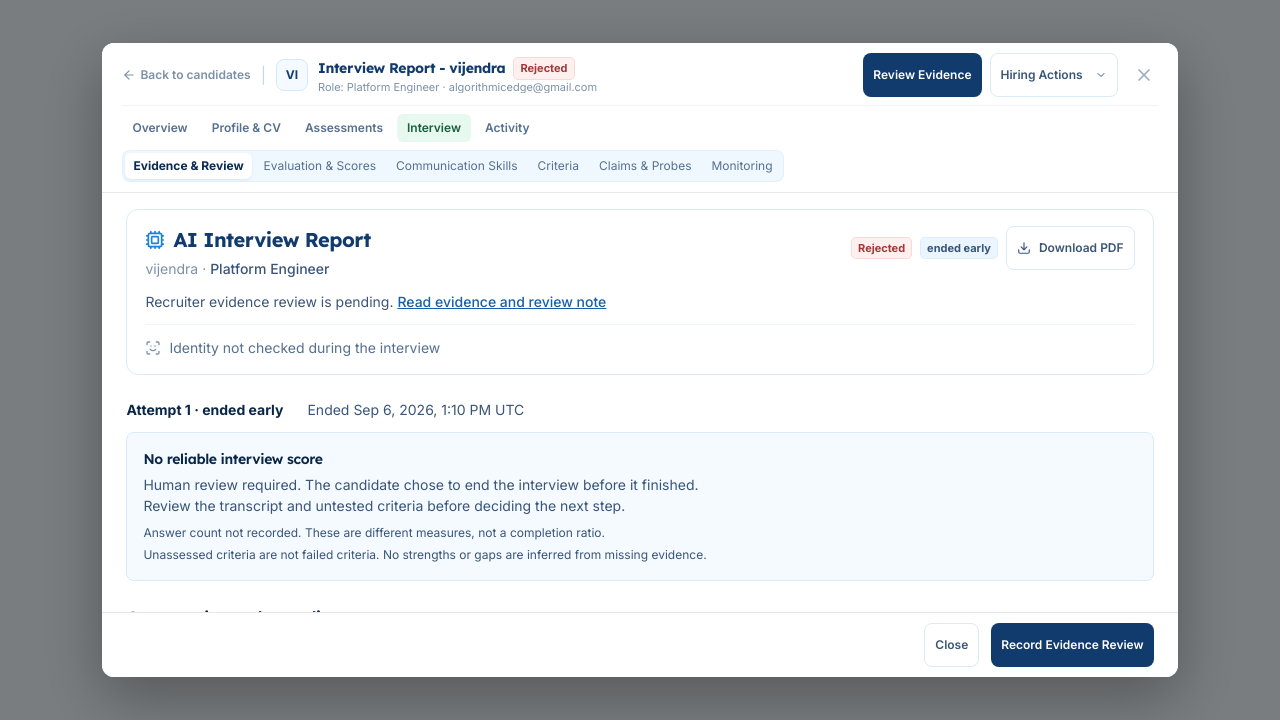
Test: CandidateInterviewModal Component › allows switching between candidate profile tabs and interview sub-tabs
The image size is (1280, 720).
Check: the button "Evidence & Review" is shown, box [125,153,252,179]
Check: the button "Claims & Probes" is shown, box [591,153,700,179]
# Click Criteria subtab
Click the button "Criteria" at (558, 166), box [530,153,587,179]
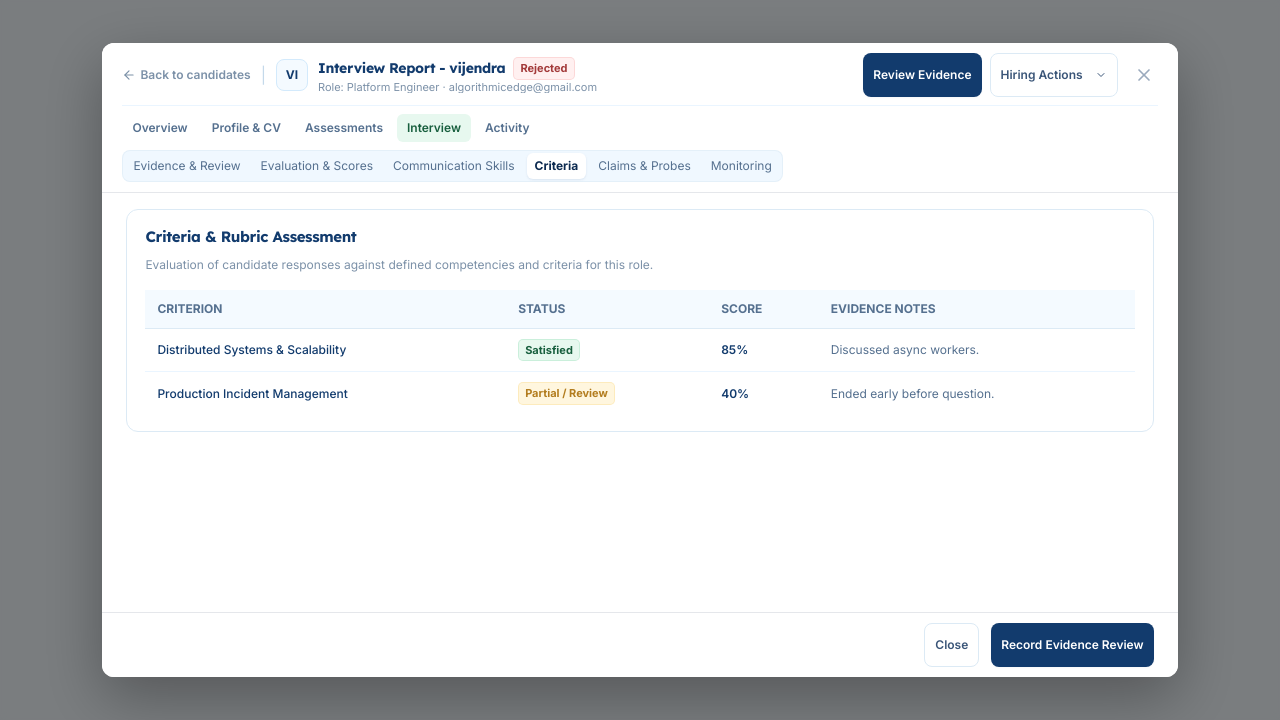
Check: the element with test id "interview-criteria-view" is shown, box [126,209,1154,432]
Check: the text "Distributed Systems & Scalability" is shown, box [145,328,506,372]
# Click Claims & Probes subtab
Click the button "Claims & Probes" at (645, 166), box [590,153,699,179]
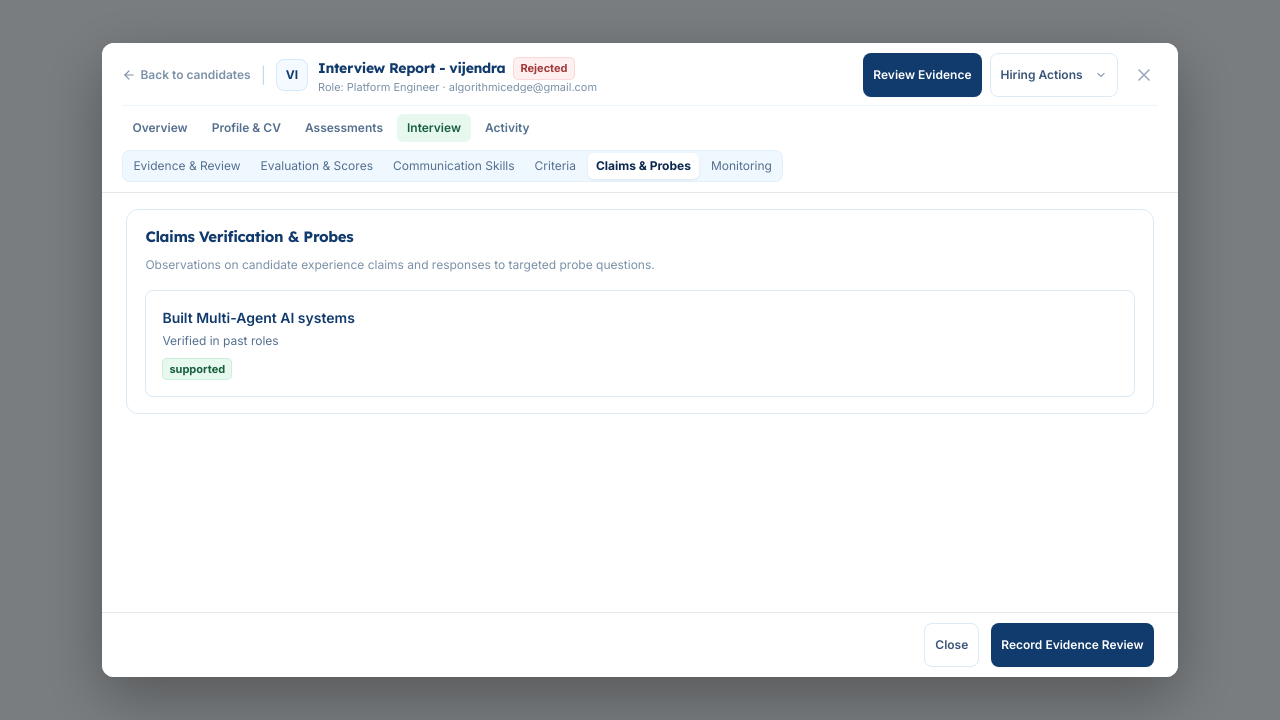
Check: the element with test id "interview-claims-view" is shown, box [126,209,1154,414]
Check: the text "Built Multi-Agent AI systems" is shown, box [162,309,355,326]
# Click Monitoring subtab
Click the button "Monitoring" at (741, 166), box [703,153,780,179]
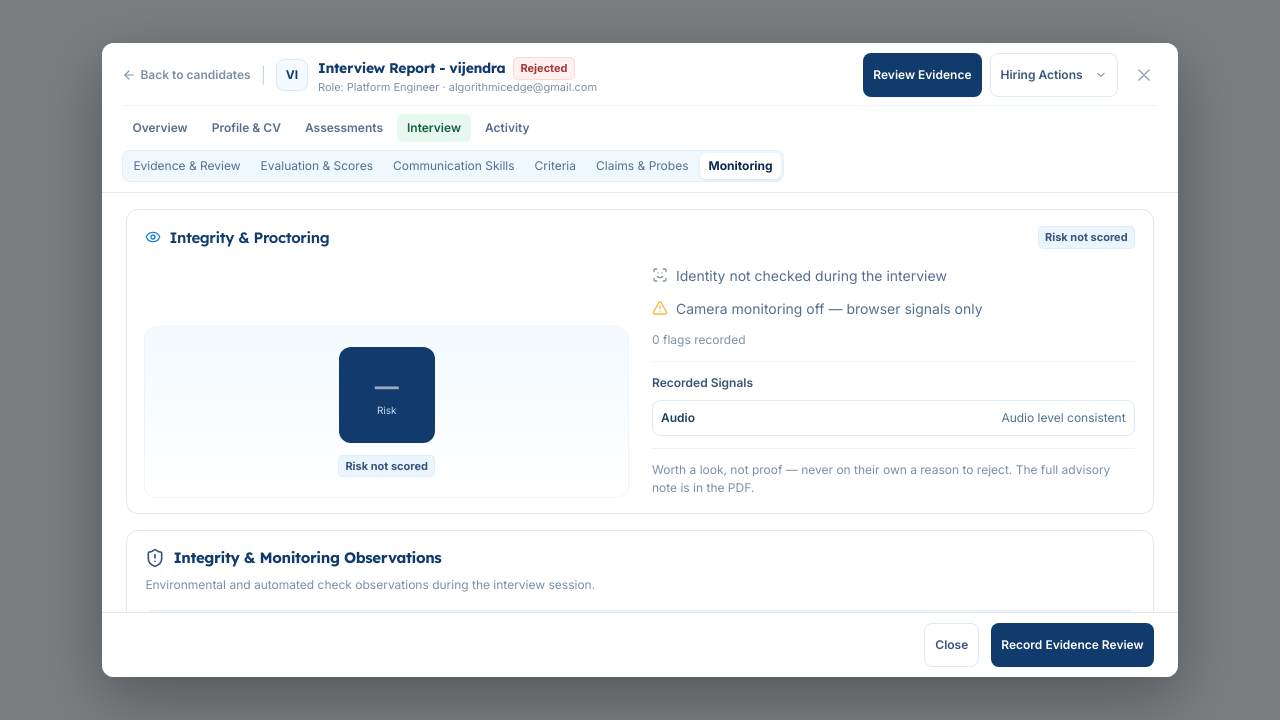
Check: the element with test id "interview-monitoring-view" is shown, box [126,209,1154,612]
# Switch to Overview main tab
Click the button "Overview" at (160, 128), box [122,114,198,142]
(page scrolled)
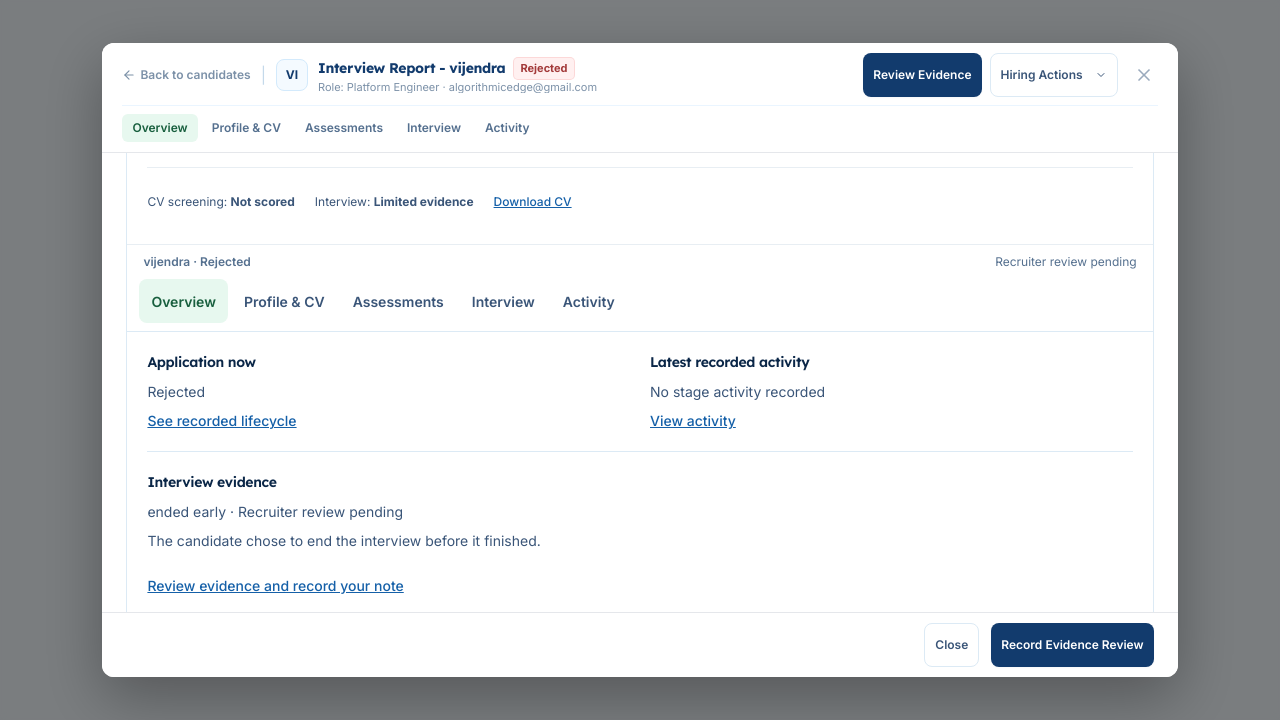
Check: the element with test id "candidate-portal-view" is shown, box [126,153,1154,612]
